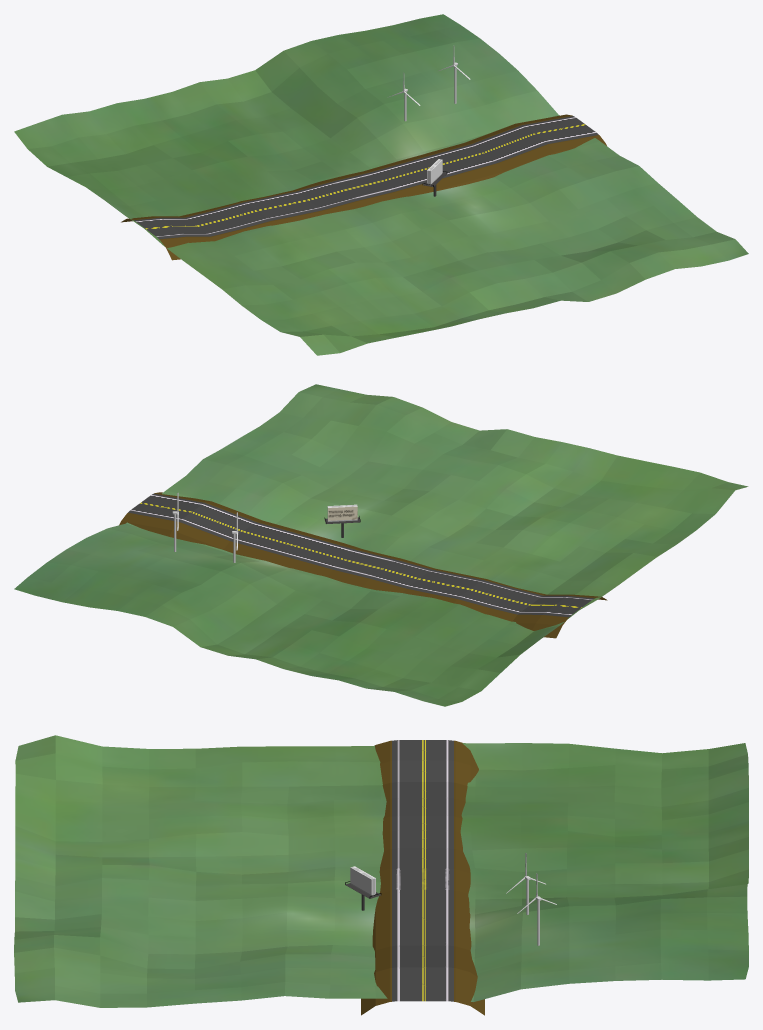
File: clear-skies.glb
3 renders of one model, top to bottom at view 1: azimuth 30°, elevation 25°; view 2: azimuth 150°, elevation 25°; view 3: azimuth 270°, elevation 25°, orthographic. The views are drawn at different scales.
Visible parts, largest first — view 1: Grass, Road; view 2: Grass, Road; view 3: Grass, Road, Billboard.
Part boxes in pixels (left/top/right/bottom): Grass: left=14, top=14, right=748, bottom=355; Road: left=121, top=114, right=606, bottom=260; Grass: left=14, top=384, right=748, bottom=706; Road: left=119, top=492, right=607, bottom=638; Grass: left=14, top=735, right=748, bottom=1007; Road: left=361, top=740, right=484, bottom=1015; Billboard: left=345, top=866, right=381, bottom=910.
Bounding box in the file's own units: 463 × 85.64 × 558.
Materials: 4 (4 with a texture image).
